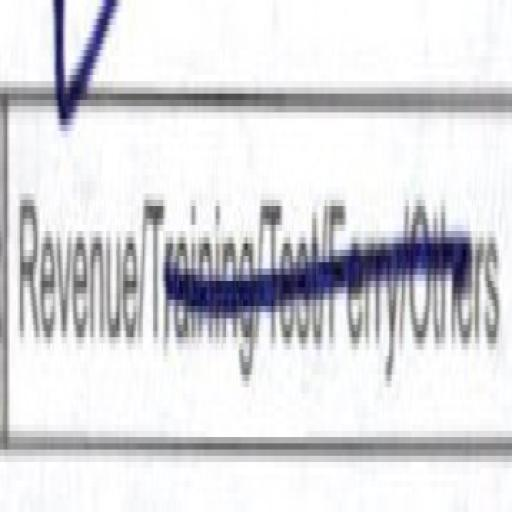check: (12, 0, 146, 471)
